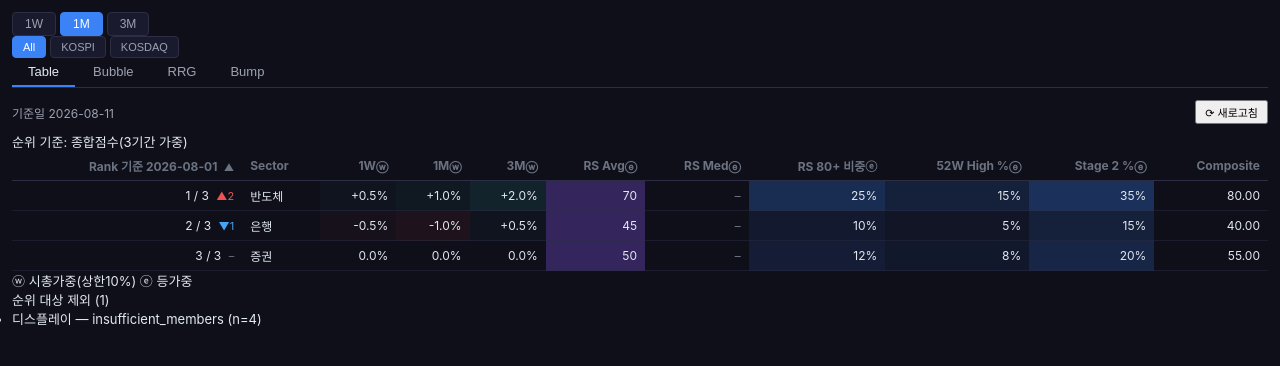
AC-SUX-022 — 정렬 고지 띠 › 비-rank 열로 정렬하면 고지 띠가 렌더되고 현재 정렬 기준·period·market 가 포함된다
This screenshot has width=1280, height=366.
Note: RS Avg 헤더 클릭 (thead 내 "RS Avg" span)
Click the text "RS Avg" at (604, 166), box top-left (584, 158), bottom-right (625, 173)
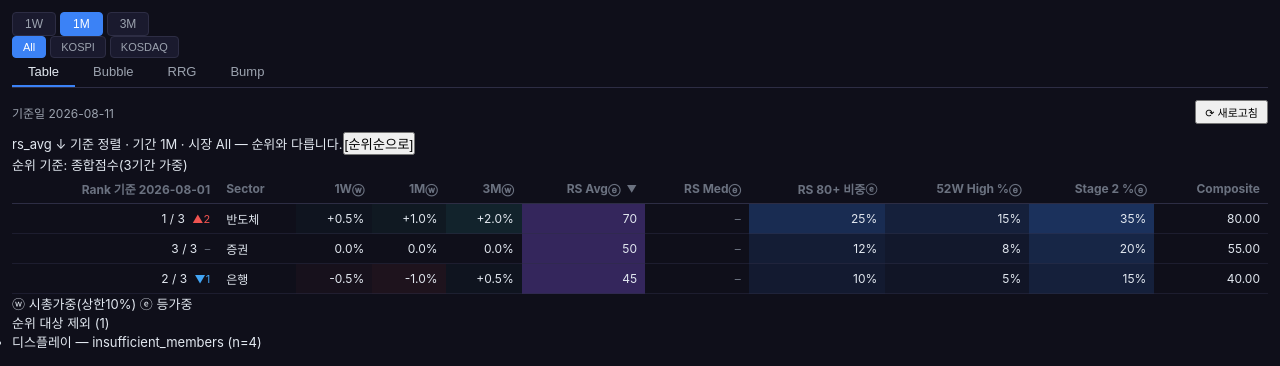
Now the element with test id "sort-notice" shows "rs_avg", box top-left (12, 136), bottom-right (52, 152)
Now the element with test id "sort-notice" shows "1M", box top-left (160, 136), bottom-right (177, 152)
Now the element with test id "sort-notice" shows "All", box top-left (216, 136), bottom-right (231, 152)
